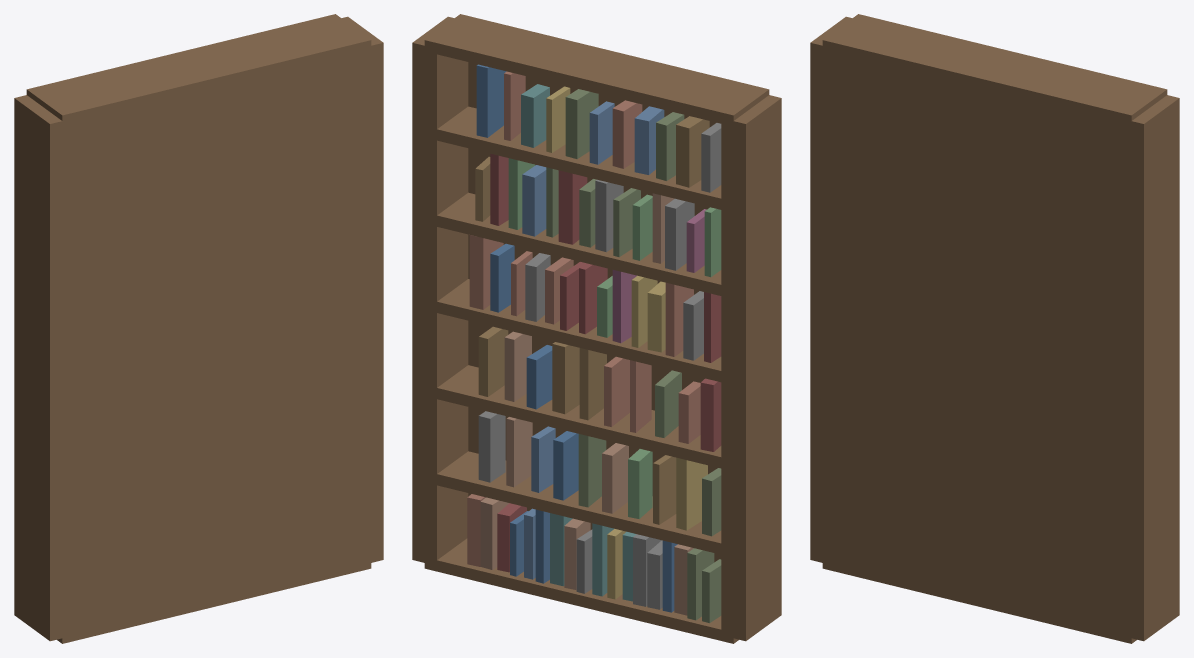
The picture shows the model from 3 angles, left to right: view 1: azimuth 30°, elevation 25°; view 2: azimuth 150°, elevation 25°; view 3: azimuth 330°, elevation 25°; orthographic projection.
Parts seen in each view (by area): view 1: Cube.002, Cube, Cube.009, Cube.001, Cube.004, Cube.005, Cube.006, Cube.007, Cube.008, Cube.003; view 2: Cube, Cube.001, Cube.009, Cube.004, Cube.005, Cube.008, Cube.007, Cube.006, Cube.003, Cube.002, Book.076, Book.034 (+75 smaller); view 3: Cube.002, Cube.001, Cube.009, Cube, Cube.004, Cube.006, Cube.005, Cube.007, Cube.003, Cube.008.
Boxes of the visible parts, box(x1,y1,x2,y2) form: Cube.002: box(62, 47, 371, 636); Cube: box(14, 95, 74, 641); Cube.009: box(26, 14, 371, 125); Cube.001: box(341, 16, 383, 565); Cube.004: box(62, 472, 371, 557); Cube.005: box(63, 386, 371, 468); Cube.006: box(64, 299, 371, 383); Cube.007: box(68, 213, 371, 295); Cube.008: box(62, 127, 370, 209); Cube.003: box(57, 561, 371, 643); Cube: box(721, 95, 781, 641); Cube.001: box(412, 16, 468, 565); Cube.009: box(424, 14, 769, 126); Cube.004: box(425, 451, 733, 557); Cube.005: box(425, 365, 733, 471); Cube.008: box(424, 106, 733, 211); Cube.007: box(424, 192, 733, 298); Cube.006: box(424, 279, 733, 384); Cube.003: box(424, 538, 738, 643); Cube.002: box(468, 62, 721, 562); Book.076: box(476, 64, 506, 137); Book.034: box(552, 342, 579, 414); Cube.002: box(822, 46, 1131, 637); Cube.001: box(1119, 95, 1179, 641); Cube.009: box(822, 14, 1167, 126); Cube: box(810, 16, 852, 565); Cube.004: box(823, 474, 1131, 557); Cube.006: box(822, 299, 1131, 384); Cube.005: box(823, 386, 1131, 471); Cube.007: box(822, 215, 1131, 298); Cube.003: box(822, 561, 1136, 643); Cube.008: box(822, 128, 1131, 211).
Size of the model in its own units: 2.16 by 3.27 by 0.4.
